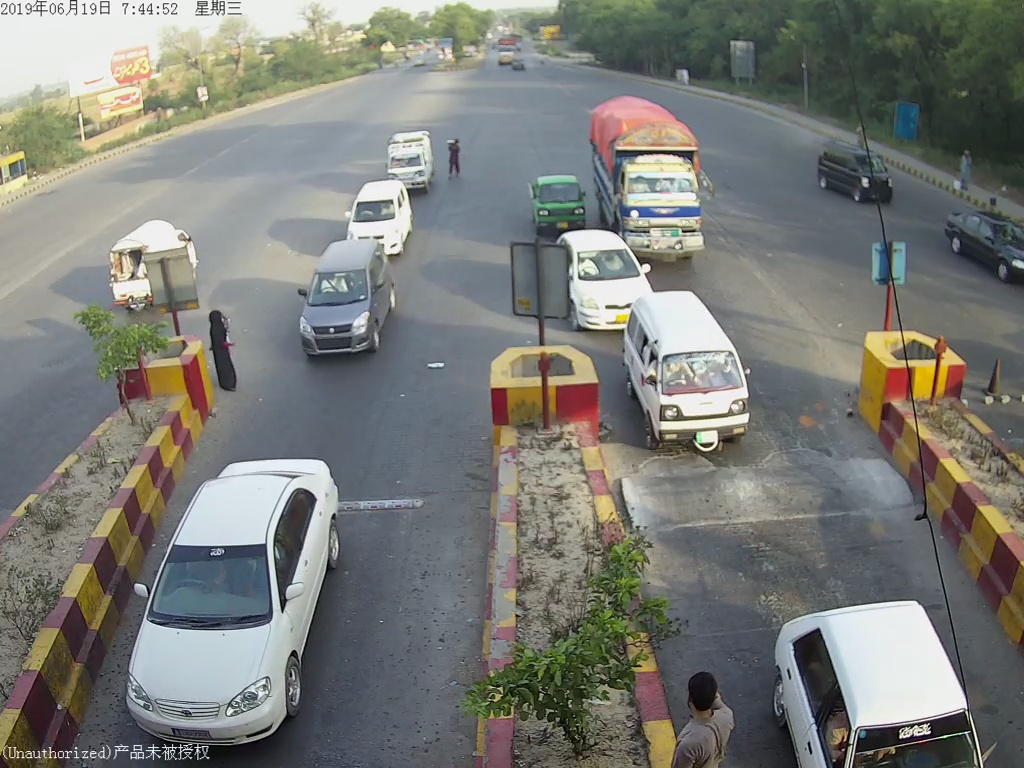Cat-1: (124, 459, 341, 725), (628, 297, 773, 454), (292, 246, 400, 354), (561, 231, 628, 337), (528, 173, 590, 231), (348, 182, 411, 238)
Cat-4: (585, 92, 712, 253)
